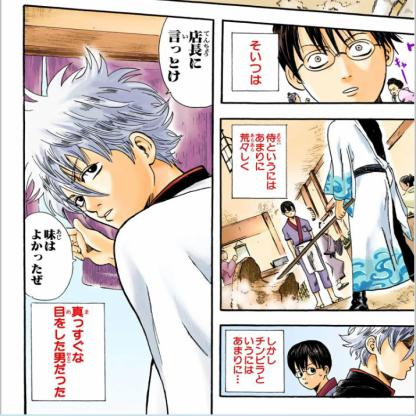sub: (51, 304, 68, 399), (245, 36, 266, 87), (69, 303, 86, 366), (264, 131, 280, 195), (165, 27, 182, 84), (29, 227, 43, 289), (240, 333, 255, 379), (187, 27, 202, 72), (252, 333, 264, 387), (238, 130, 252, 175), (250, 130, 265, 172), (231, 332, 242, 387), (264, 333, 278, 367), (42, 228, 56, 252)
